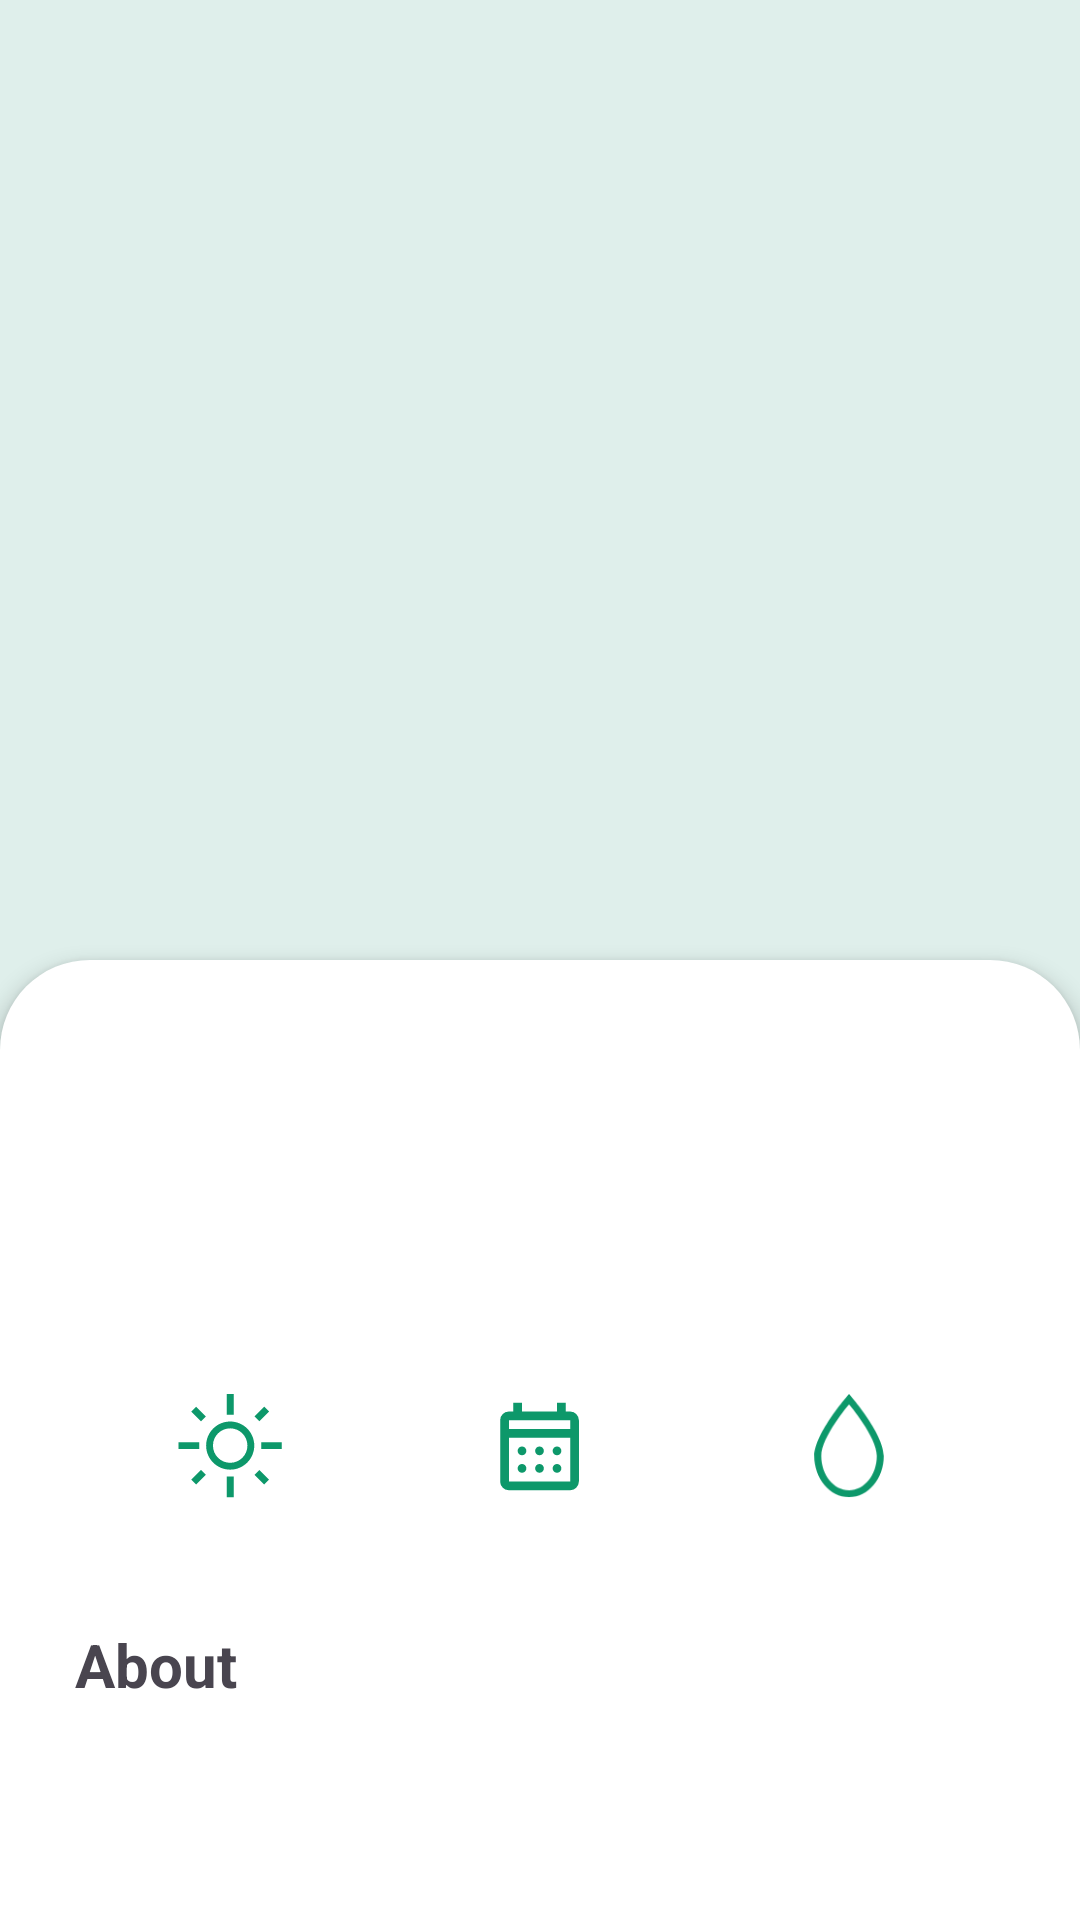

Icon bounding boxes for this 1080px×1920px phone screenshot, format bbox=[x1, y1, x2, y2]:
Season icon: bbox=[500, 1402, 579, 1491]
Sunlight icon: bbox=[178, 1394, 282, 1498]
Watering icon: bbox=[814, 1394, 884, 1497]
